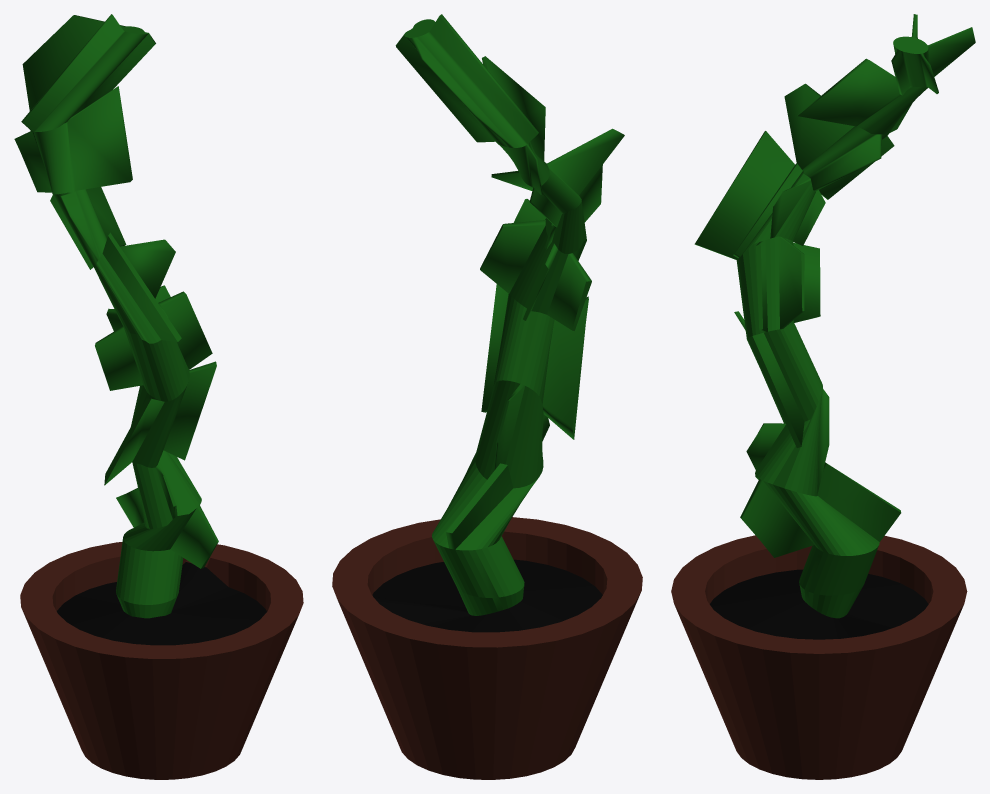
The model's file is tree.fbx.
3 renders of one model, left to right at view 1: azimuth 30°, elevation 25°; view 2: azimuth 150°, elevation 25°; view 3: azimuth 270°, elevation 25°, orthographic. The views are drawn at different scales.
Visible parts, largest first — view 1: big plant; view 2: big plant; view 3: big plant.
Part boxes in pixels (left/top/right/bottom): big plant: left=14, top=14, right=303, bottom=779; big plant: left=332, top=14, right=642, bottom=779; big plant: left=671, top=14, right=975, bottom=779.
Size of the model in its own units: 103 by 273 by 101.
